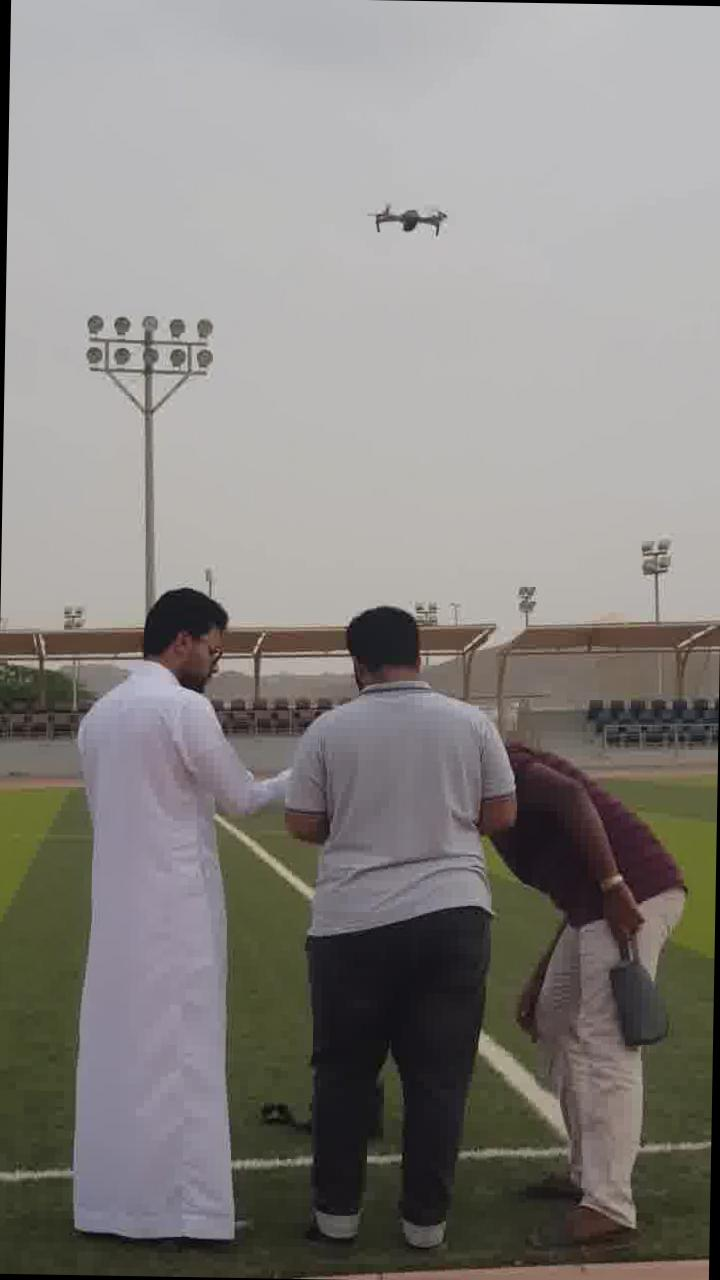drone: (357, 194, 465, 255)
